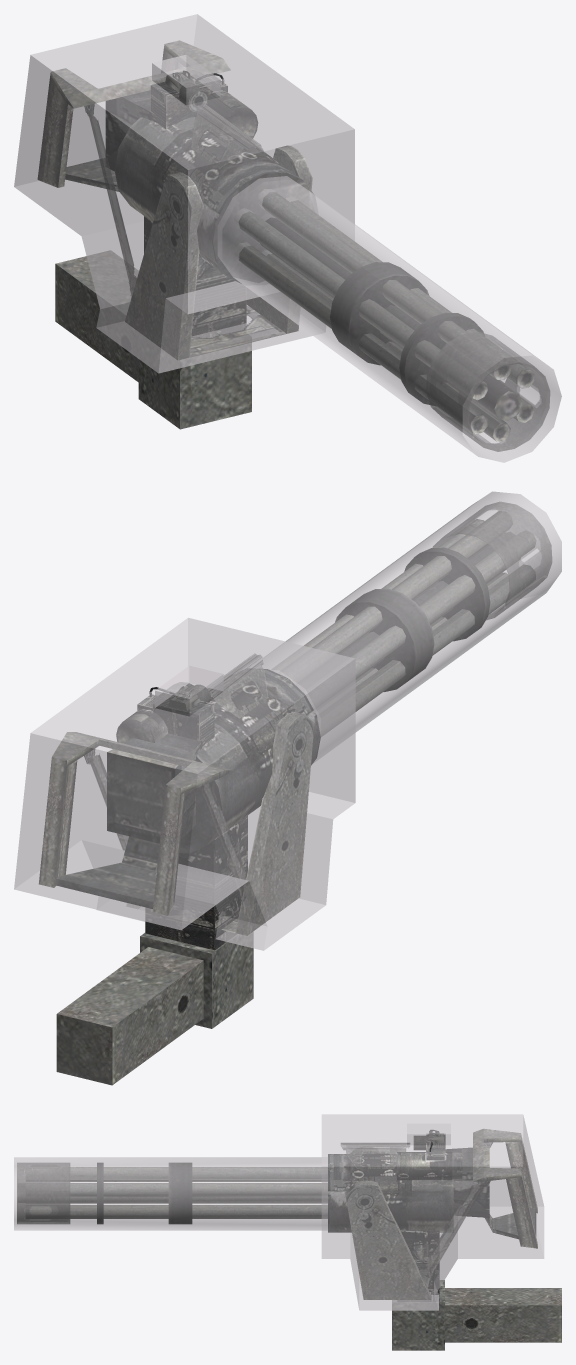
Rendered from minigund.glb.
The picture shows the model from 3 angles, top to bottom: view 1: azimuth 30°, elevation 25°; view 2: azimuth 150°, elevation 25°; view 3: azimuth 270°, elevation 25°; orthographic projection. The views are drawn at different scales.
Parts seen in each view (by area): view 1: _minigund; view 2: _minigund; view 3: _minigund.
Boxes of the visible parts, left/top/right/bottom form: _minigund: left=14, top=14, right=561, bottom=462; _minigund: left=14, top=491, right=561, bottom=1085; _minigund: left=14, top=1114, right=561, bottom=1350.
Size of the model in its own units: 0.3016 by 0.5665 by 1.34.
Materials: 3 (3 with a texture image).
